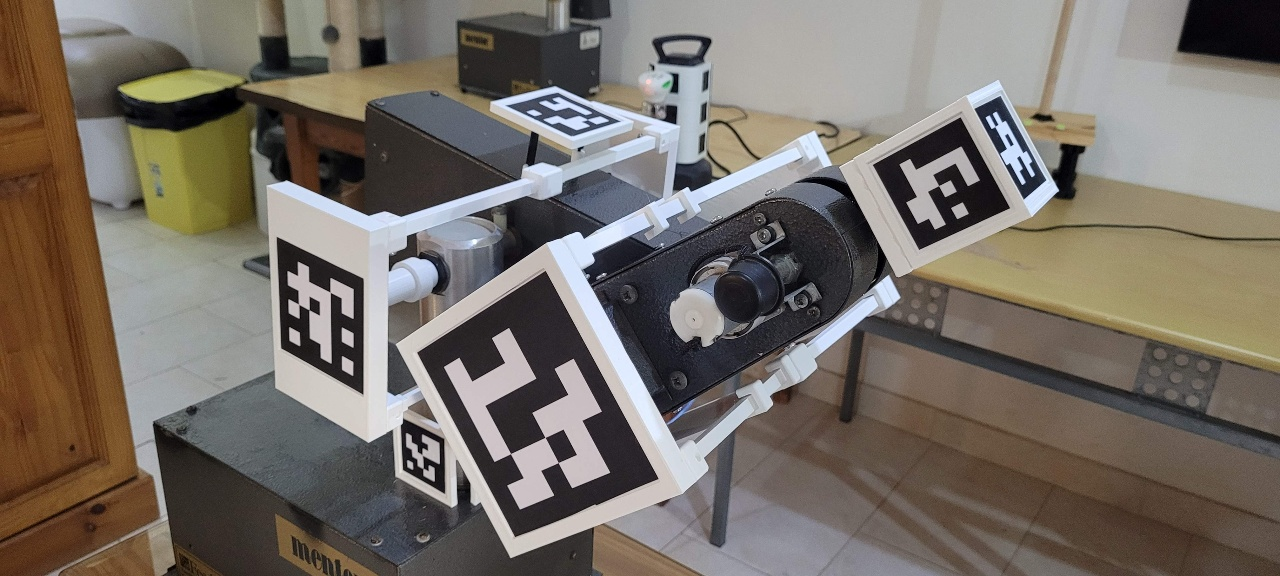Robot: (266, 80, 1062, 561)
